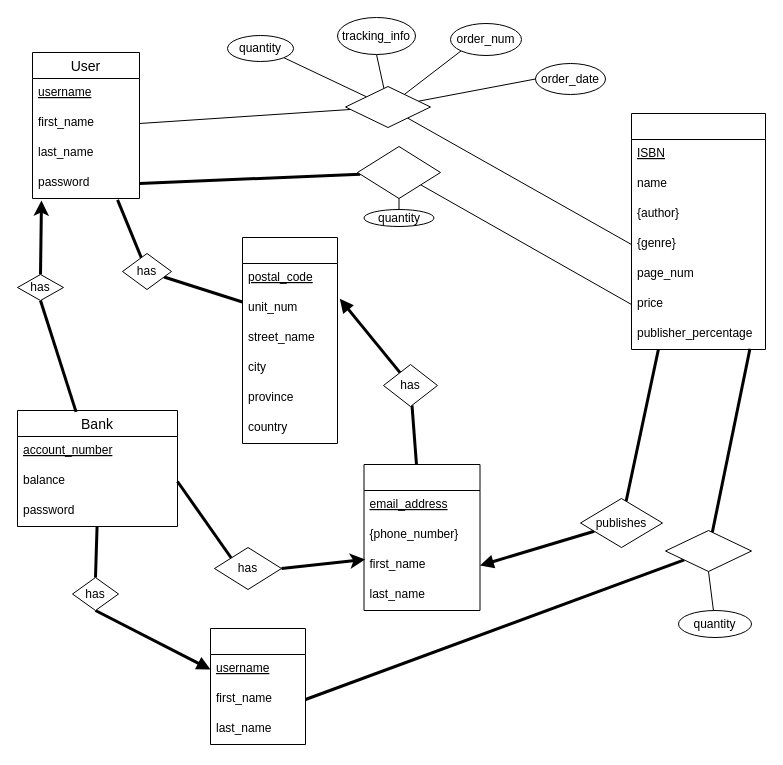
Image size: 783x765. Some labels were removed from this diagram. The shapes that lost their labels are listed below. From the top down, each one's box as (x1, y1, x2, y2) in pixels, then its label:
(344, 86, 430, 128): Ordered
(356, 146, 440, 198): In_basket
(630, 112, 766, 350): Book
(242, 236, 338, 444): Address
(363, 464, 480, 610): Publisher
(664, 530, 752, 572): Collection
(210, 628, 306, 744): Owner
